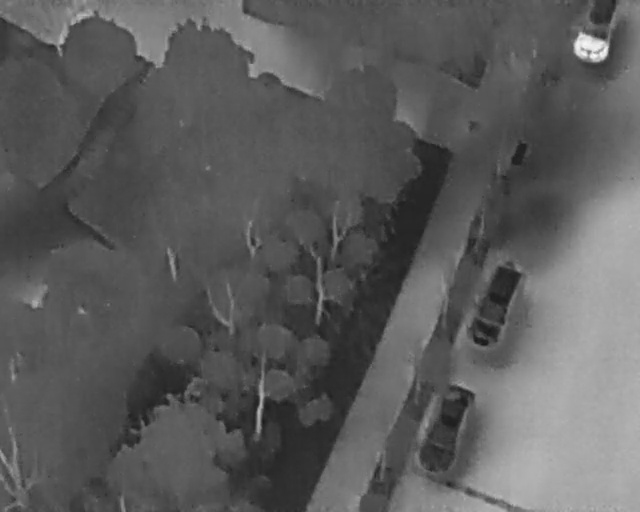Car: (458, 252, 529, 355), (411, 377, 480, 480), (570, 0, 620, 64)
